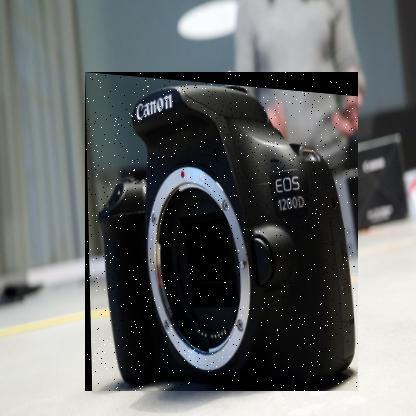Camera: (86, 73, 360, 393)
